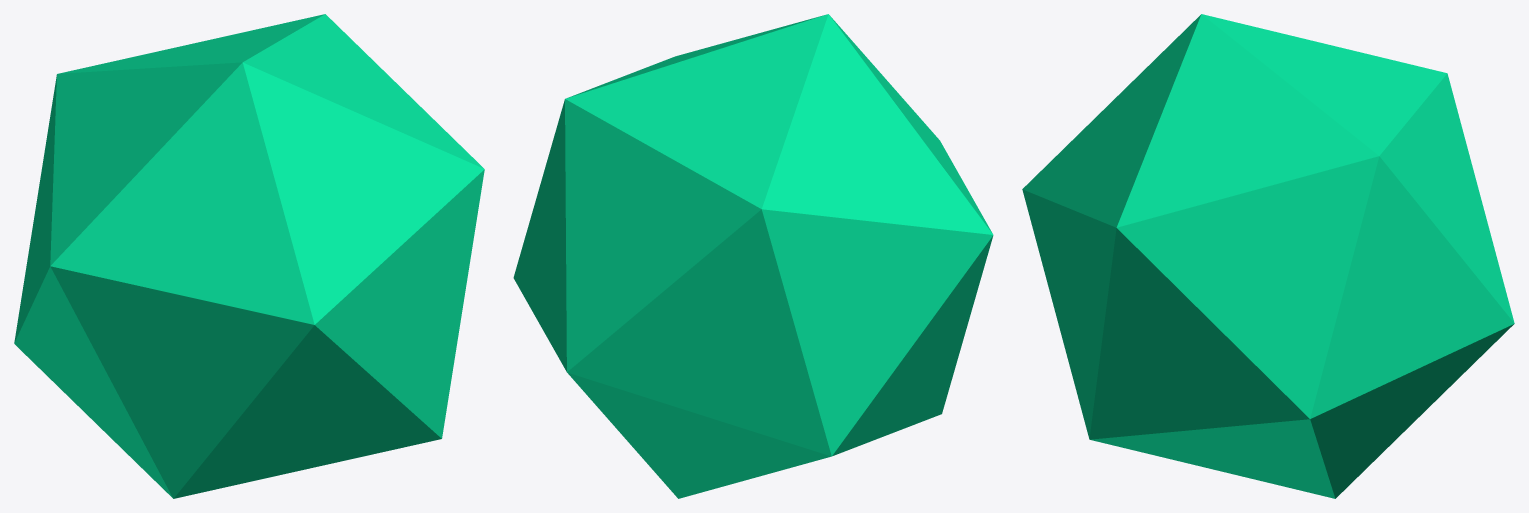
3 renders of one model, left to right at view 1: azimuth 30°, elevation 25°; view 2: azimuth 150°, elevation 25°; view 3: azimuth 270°, elevation 25°, orthographic. The views are drawn at different scales.
Parts seen in each view (by area): view 1: Icosphere; view 2: Icosphere; view 3: Icosphere.
Boxes of the visible parts, box(x1,y1,x2,y2) form: Icosphere: box(14, 14, 484, 498); Icosphere: box(513, 14, 993, 498); Icosphere: box(1022, 14, 1514, 498).
Bounding box in the file's own units: 2.08 × 2.07 × 2.07.
